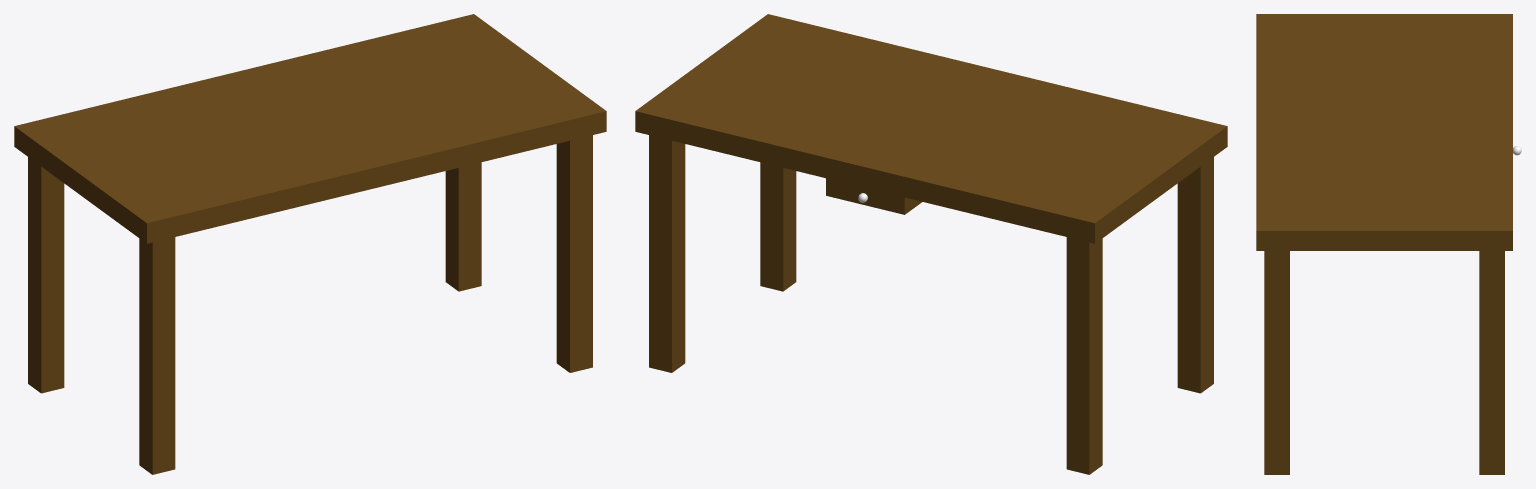
File: table.glb
3 views of the same model, side by side, from view 1: azimuth 30°, elevation 25°; view 2: azimuth 150°, elevation 25°; view 3: azimuth 270°, elevation 25° (orthographic). The views are drawn at different scales.
Parts seen in each view (by area): view 1: Tabletop; view 2: Tabletop, Drawer; view 3: Tabletop.
Boxes of the visible parts, <box> form: Tabletop: <box>14,14,606,474</box>; Tabletop: <box>635,14,1227,474</box>; Drawer: <box>826,178,921,214</box>; Tabletop: <box>1256,14,1512,474</box>.
Bounding box in the file's own units: 1.4 × 0.748 × 0.7235.
